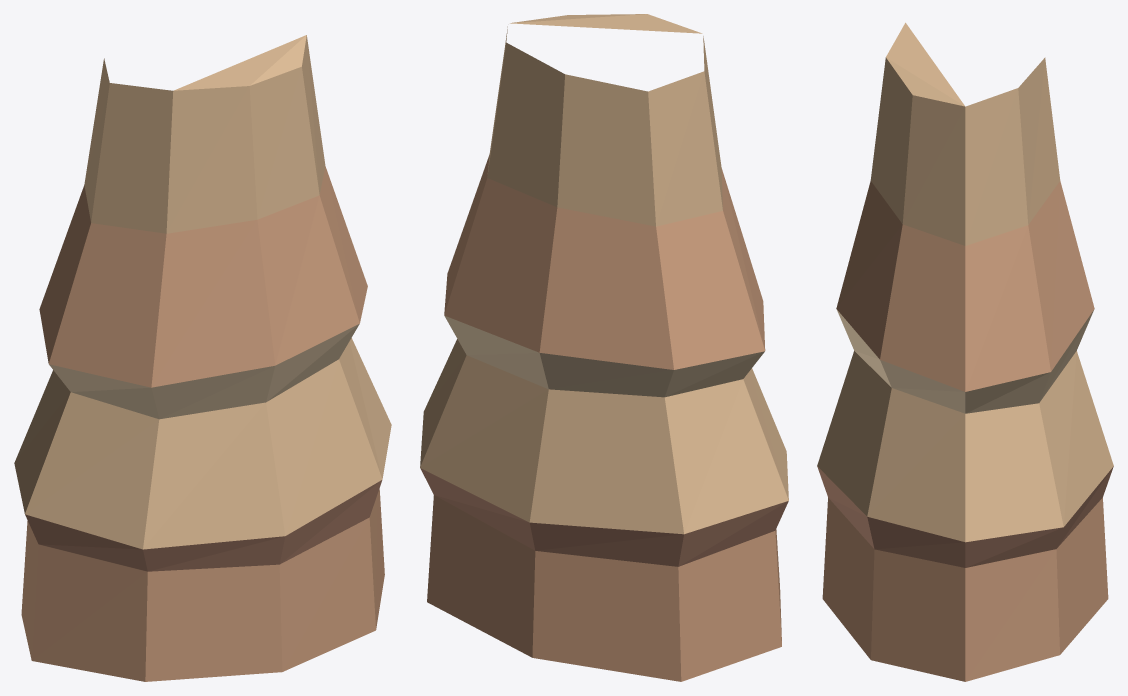
The picture shows the model from 3 angles, left to right: view 1: azimuth 30°, elevation 25°; view 2: azimuth 150°, elevation 25°; view 3: azimuth 270°, elevation 25°; orthographic projection. The views are drawn at different scales.
Bounding box in the file's own units: 23.76 × 35.39 × 17.28.
